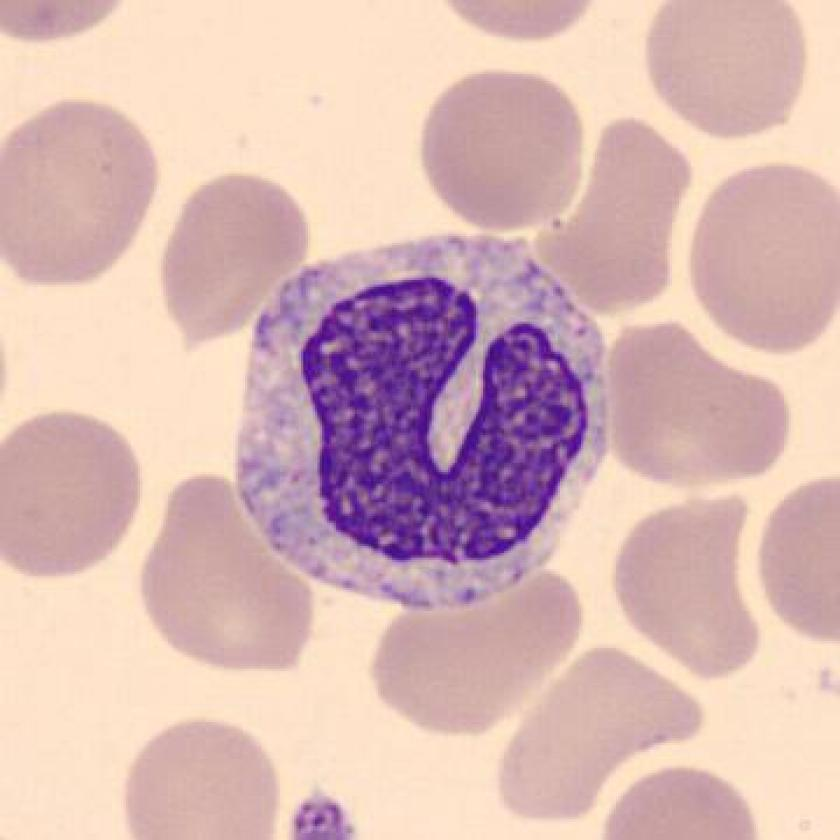monocyte: (223, 218, 638, 619)
